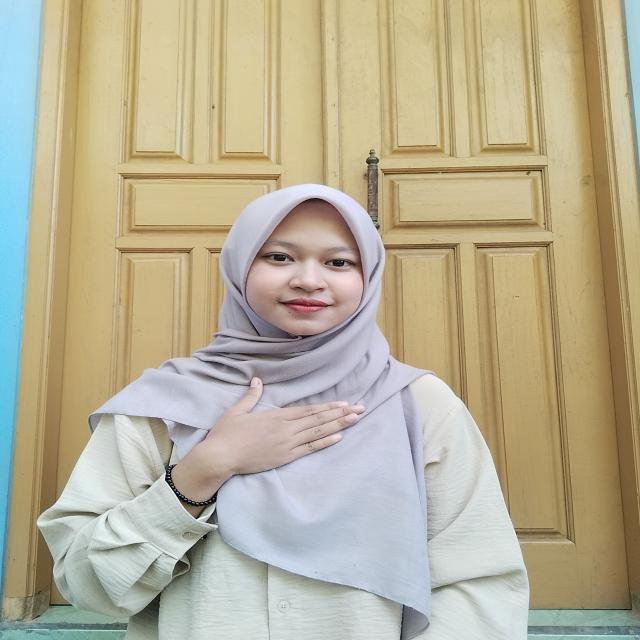tolong: (155, 378, 369, 505)
